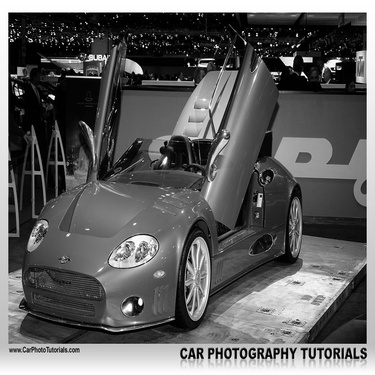car: (38, 26, 315, 318)
